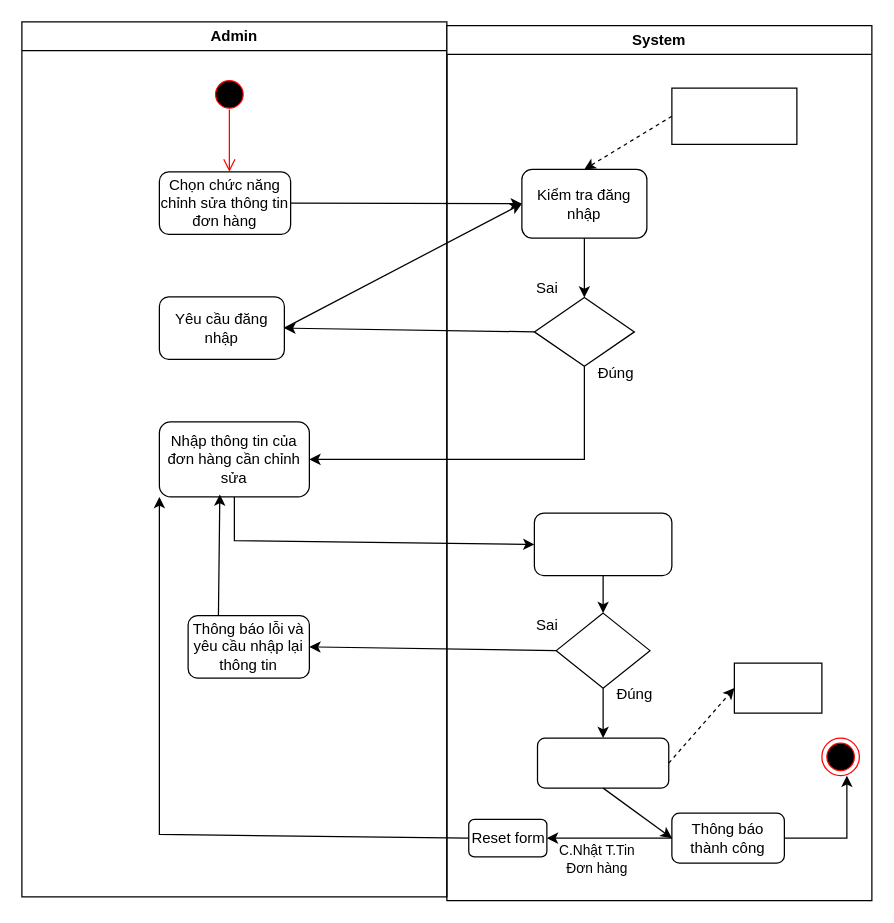
The diagram is 894 pixels wide and 923 high, and some of its shapes have lost their labels. Here are the shapes that lost their labels. From the top down, the centre of each, then its label:
point (734, 115): Tài khoản
point (602, 544): Kiểm tra thông tin
point (777, 687): Đơn hàng
point (602, 762): Cập nhật thông tin đơn hàng
